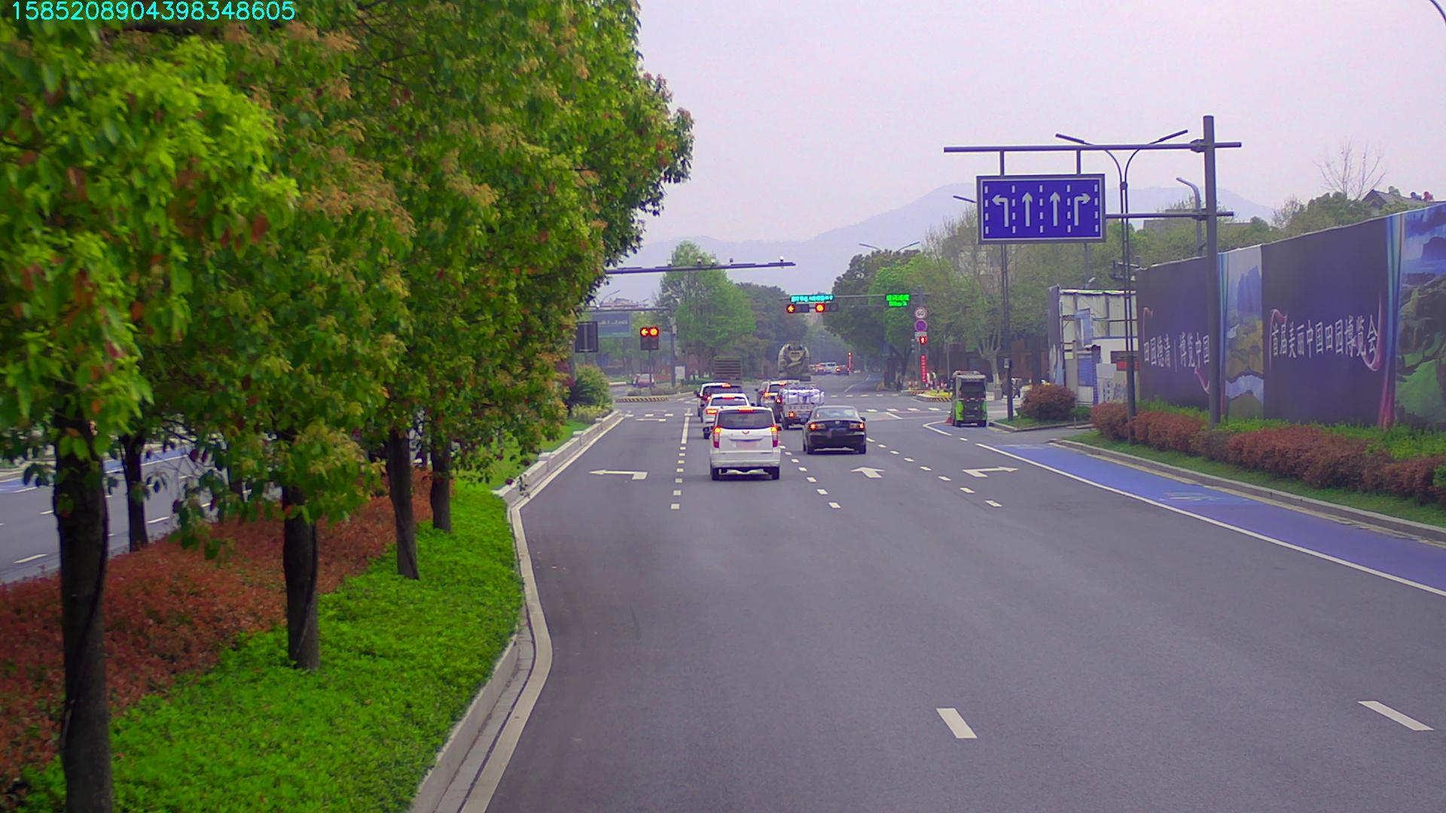red: (786, 300, 806, 312), (813, 303, 837, 312)
wait_on: (790, 291, 837, 301)
